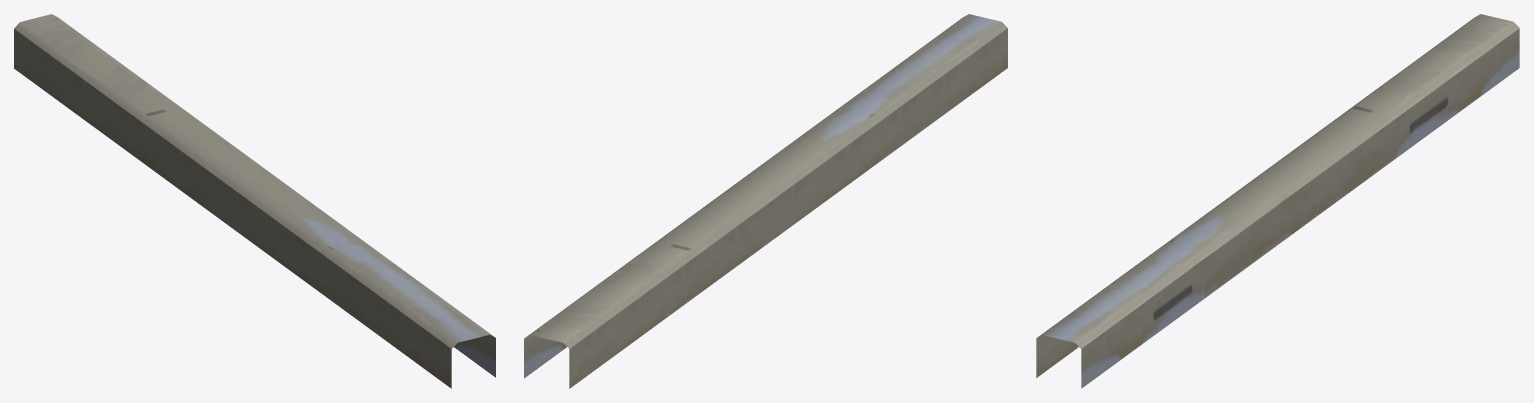
The model's file is pref_sm_city_ramen04_snow_lv3.fbx.
The picture shows the model from 3 angles, left to right: view 1: azimuth 30°, elevation 25°; view 2: azimuth 150°, elevation 25°; view 3: azimuth 330°, elevation 25°; orthographic projection.
Parts seen in each view (by area): view 1: pref_sm_city_ramen04_snow_lv3; view 2: pref_sm_city_ramen04_snow_lv3; view 3: pref_sm_city_ramen04_snow_lv3.
Boxes of the visible parts, x1,y1,x2,y2 form: pref_sm_city_ramen04_snow_lv3: (14,14,495,388); pref_sm_city_ramen04_snow_lv3: (524,14,1007,388); pref_sm_city_ramen04_snow_lv3: (1036,14,1519,388).
Bounding box in the file's own units: 0.6256 × 0.6008 × 10.67.
